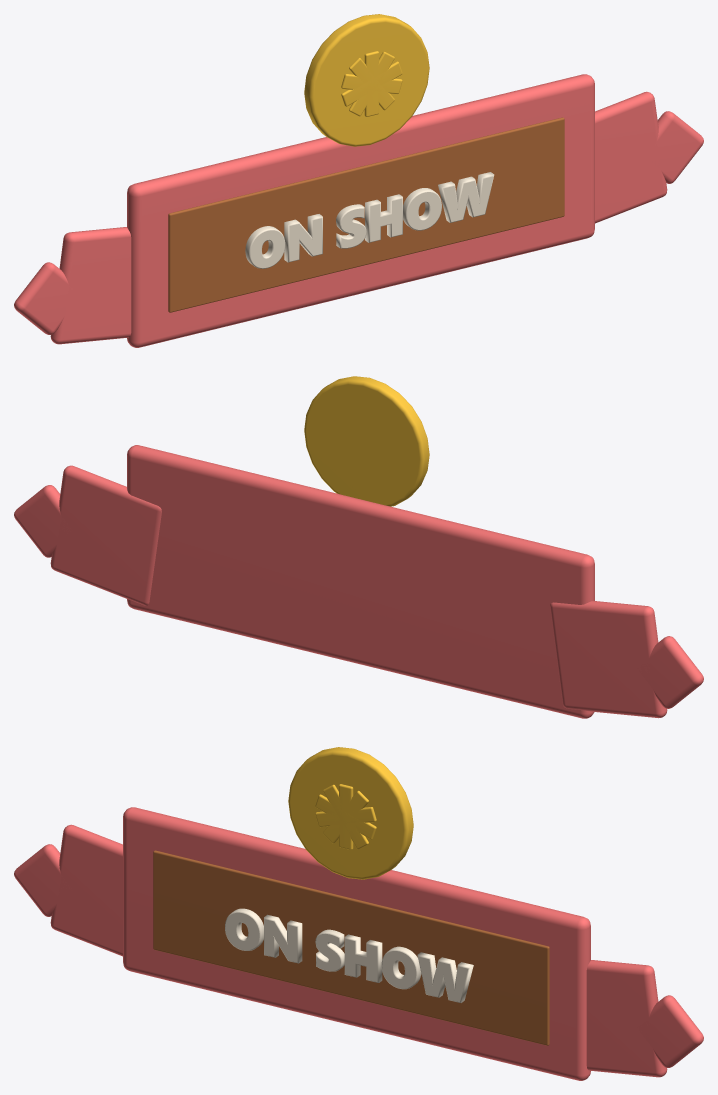
File: DisplayTag.fbx
3 views of the same model, one above another, from view 1: azimuth 30°, elevation 25°; view 2: azimuth 150°, elevation 25°; view 3: azimuth 330°, elevation 25° (orthographic).
Parts seen in each view (by area): view 1: DisplayTag mesh; view 2: DisplayTag mesh; view 3: DisplayTag mesh.
Part boxes in pixels (<box>): DisplayTag mesh: <box>14,14,703,347</box>; DisplayTag mesh: <box>14,376,703,718</box>; DisplayTag mesh: <box>14,747,703,1080</box>.
Bounding box in the file's own units: 0.7989 × 0.31 × 0.036.
